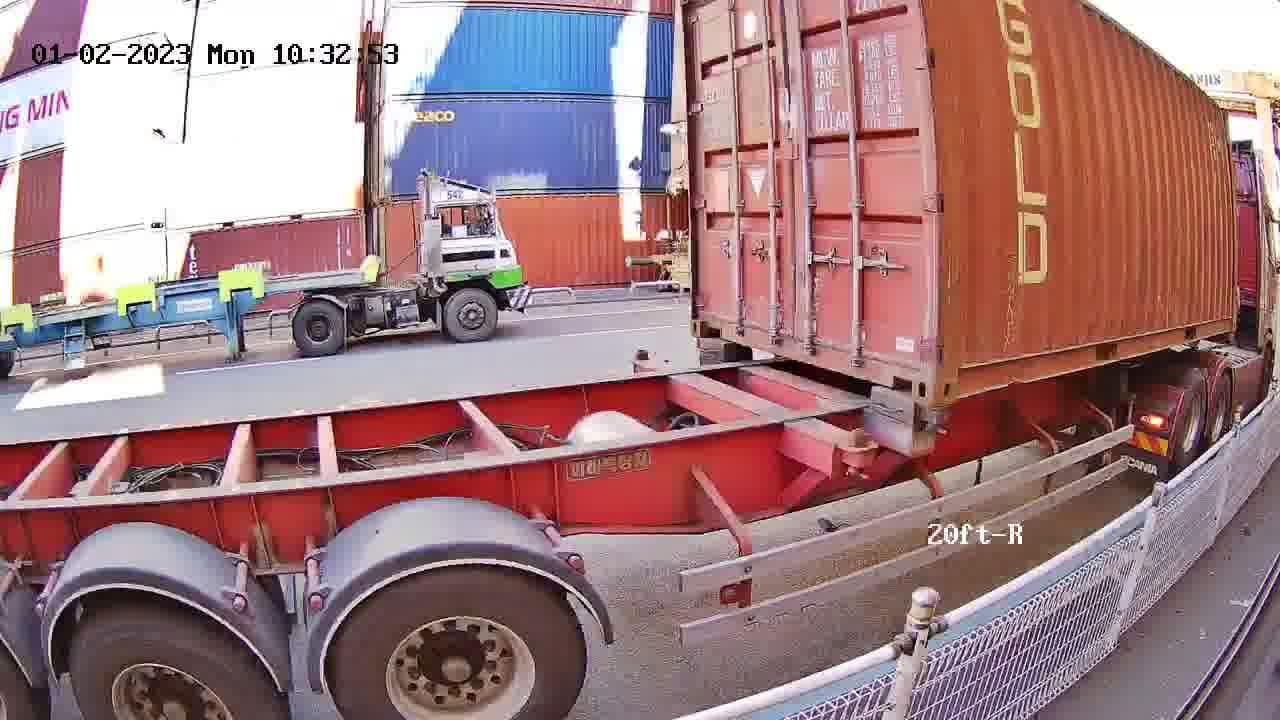Chassis: (693, 336, 956, 425)
Cone: (919, 406, 956, 439)
Hole_L: (935, 342, 983, 408), (691, 297, 728, 340)
Hole_R: (884, 341, 934, 405)
Tire: (1177, 376, 1206, 471), (1204, 373, 1231, 457)
